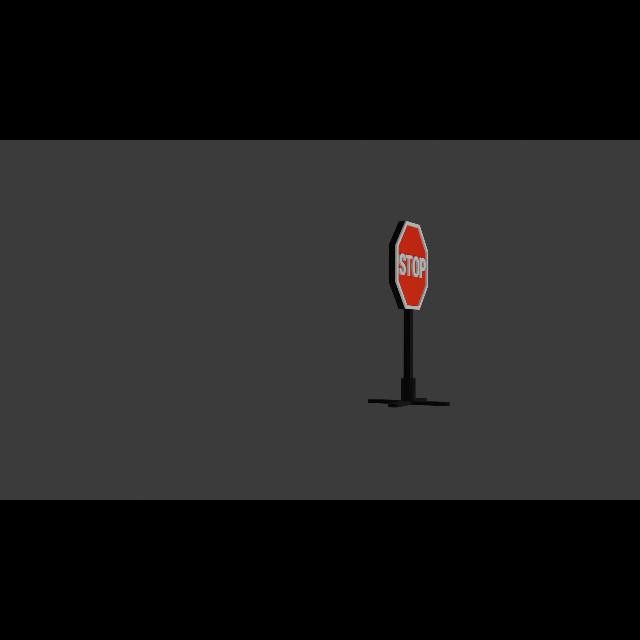sign_stop: (389, 221, 430, 311)
